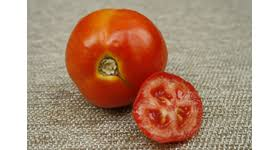tomato: (64, 6, 165, 107)
